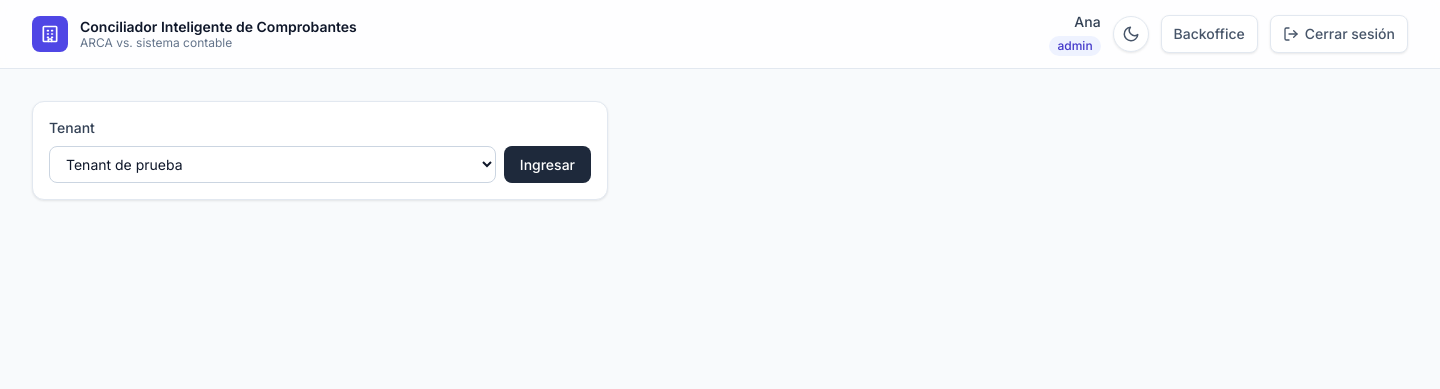
it: view state machine: dashboard | circuit | report | pendientes-historico › renders dashboard view after selecting a tenant
Select "Tenant de prueba" in the dropdown labelled "Tenant" at (272, 164), box left=49, top=146, right=496, bottom=183
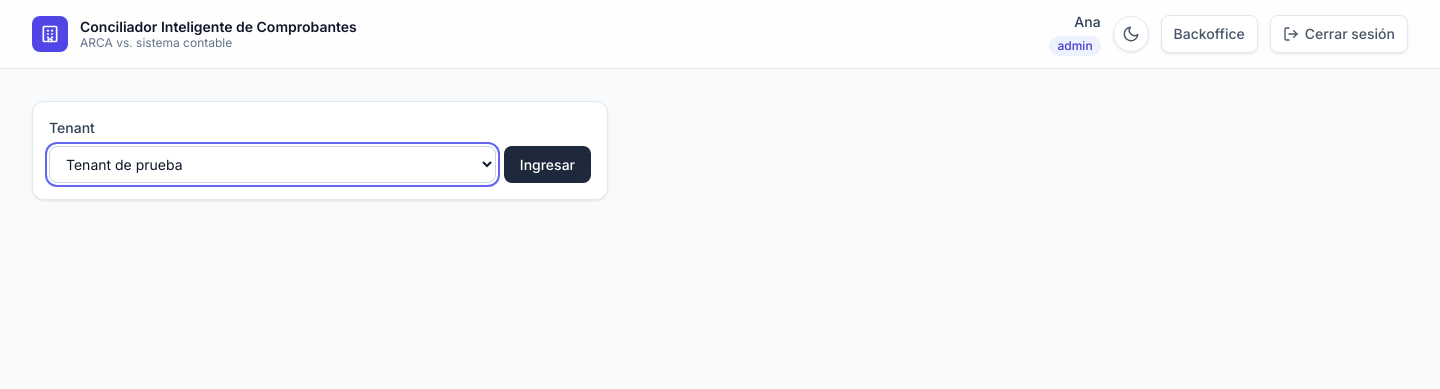
Click the button "Ingresar".
click(547, 164)  # box left=504, top=146, right=591, bottom=183
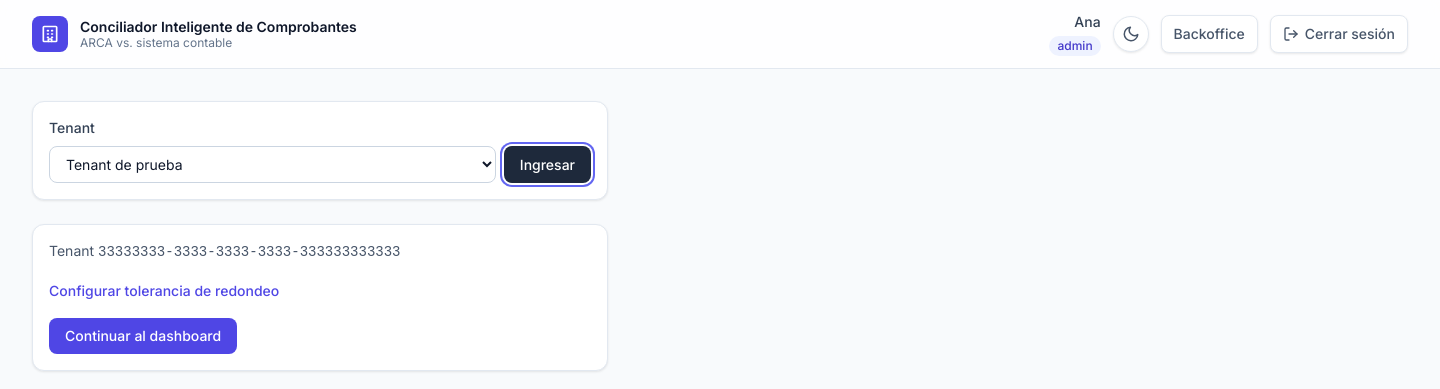
Click the button "Continuar al dashboard".
click(143, 336)  # box left=49, top=318, right=237, bottom=354
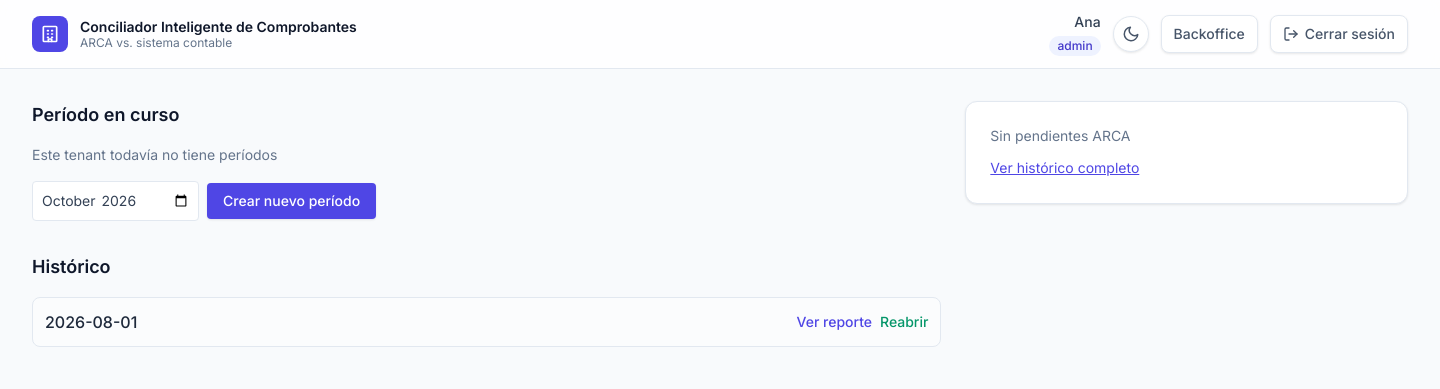
Expected: the heading "Conciliador Inteligente de Comprobantes" is shown, left=80, top=18, right=357, bottom=35
Now the heading "Histórico" is shown, box left=32, top=256, right=111, bottom=277
